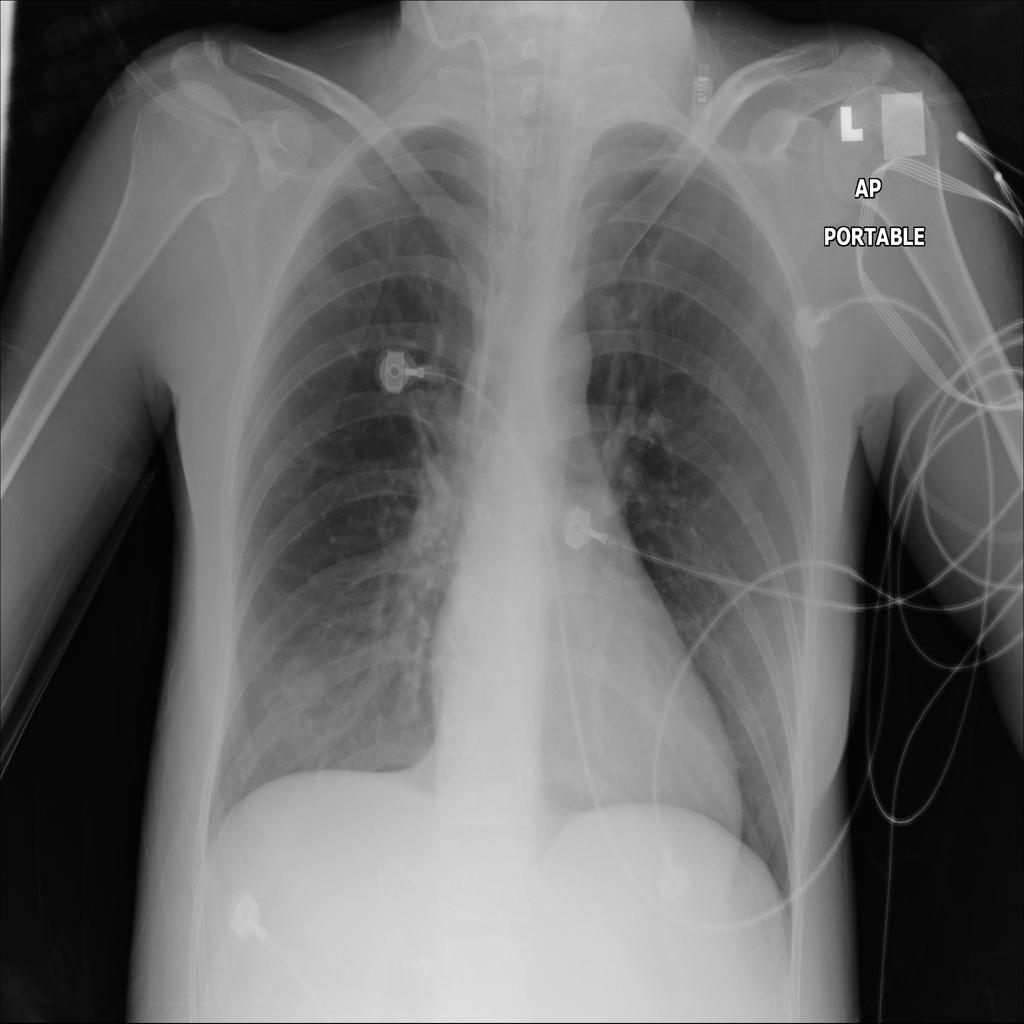nodule: (269, 641, 339, 719)
